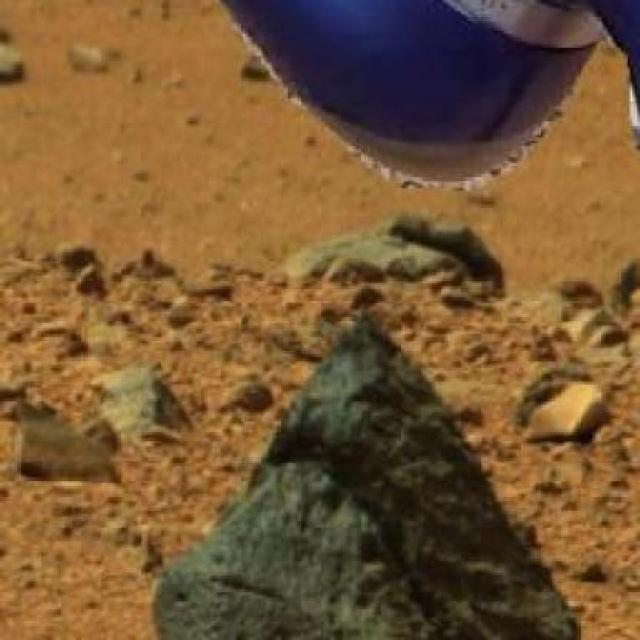rock: (150, 305, 595, 638), (266, 208, 505, 290), (6, 409, 128, 485), (524, 381, 616, 442), (0, 36, 32, 87)
